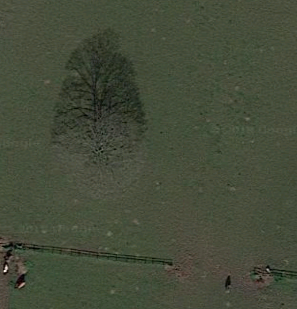tree: (43, 97, 153, 201)
